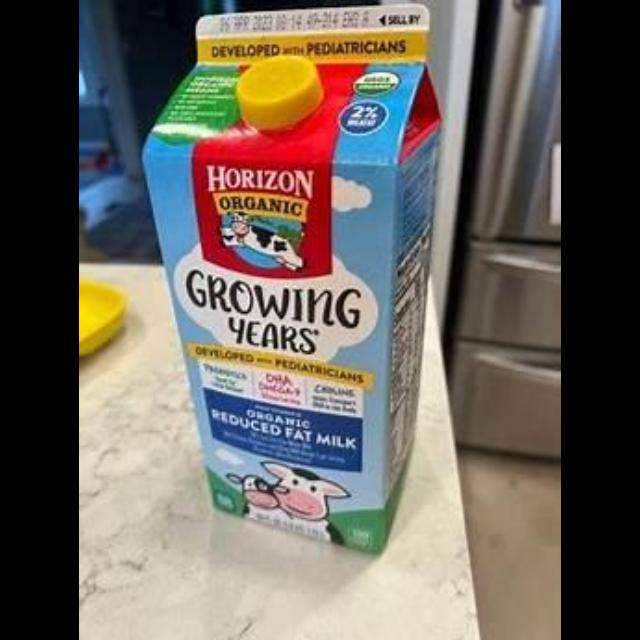caixinha: (140, 2, 442, 558)
tampa plástica: (237, 56, 325, 130)
